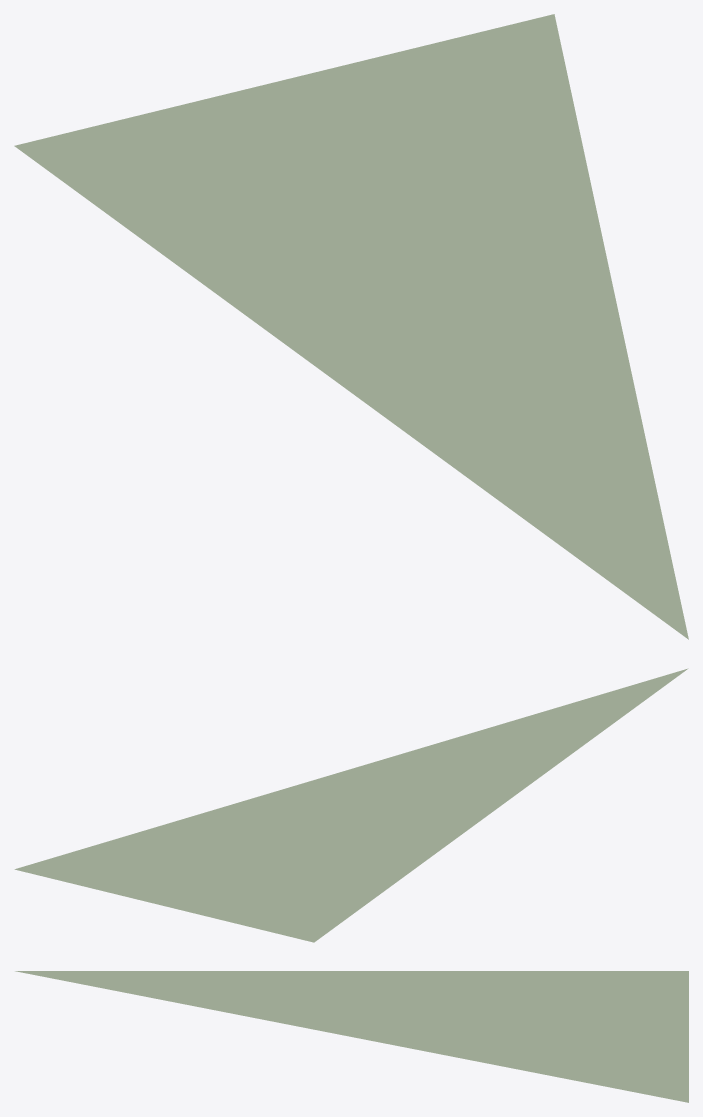
Rendered from SM_MPRR_Terrain_5_1.fbx.
The picture shows the model from 3 angles, top to bottom: view 1: azimuth 30°, elevation 25°; view 2: azimuth 150°, elevation 25°; view 3: azimuth 270°, elevation 25°; orthographic projection. The views are drawn at different scales.
Visible parts, largest first — view 1: SM_MPRR_Terrain_5_1; view 2: SM_MPRR_Terrain_5_1; view 3: SM_MPRR_Terrain_5_1.
Part boxes in pixels (x1=…): SM_MPRR_Terrain_5_1: x1=14, y1=14, x2=688, y2=639; SM_MPRR_Terrain_5_1: x1=14, y1=668, x2=688, y2=942; SM_MPRR_Terrain_5_1: x1=15, y1=971, x2=688, y2=1102.
Bounding box in the file's own units: 2551 × 5518 × 0.
